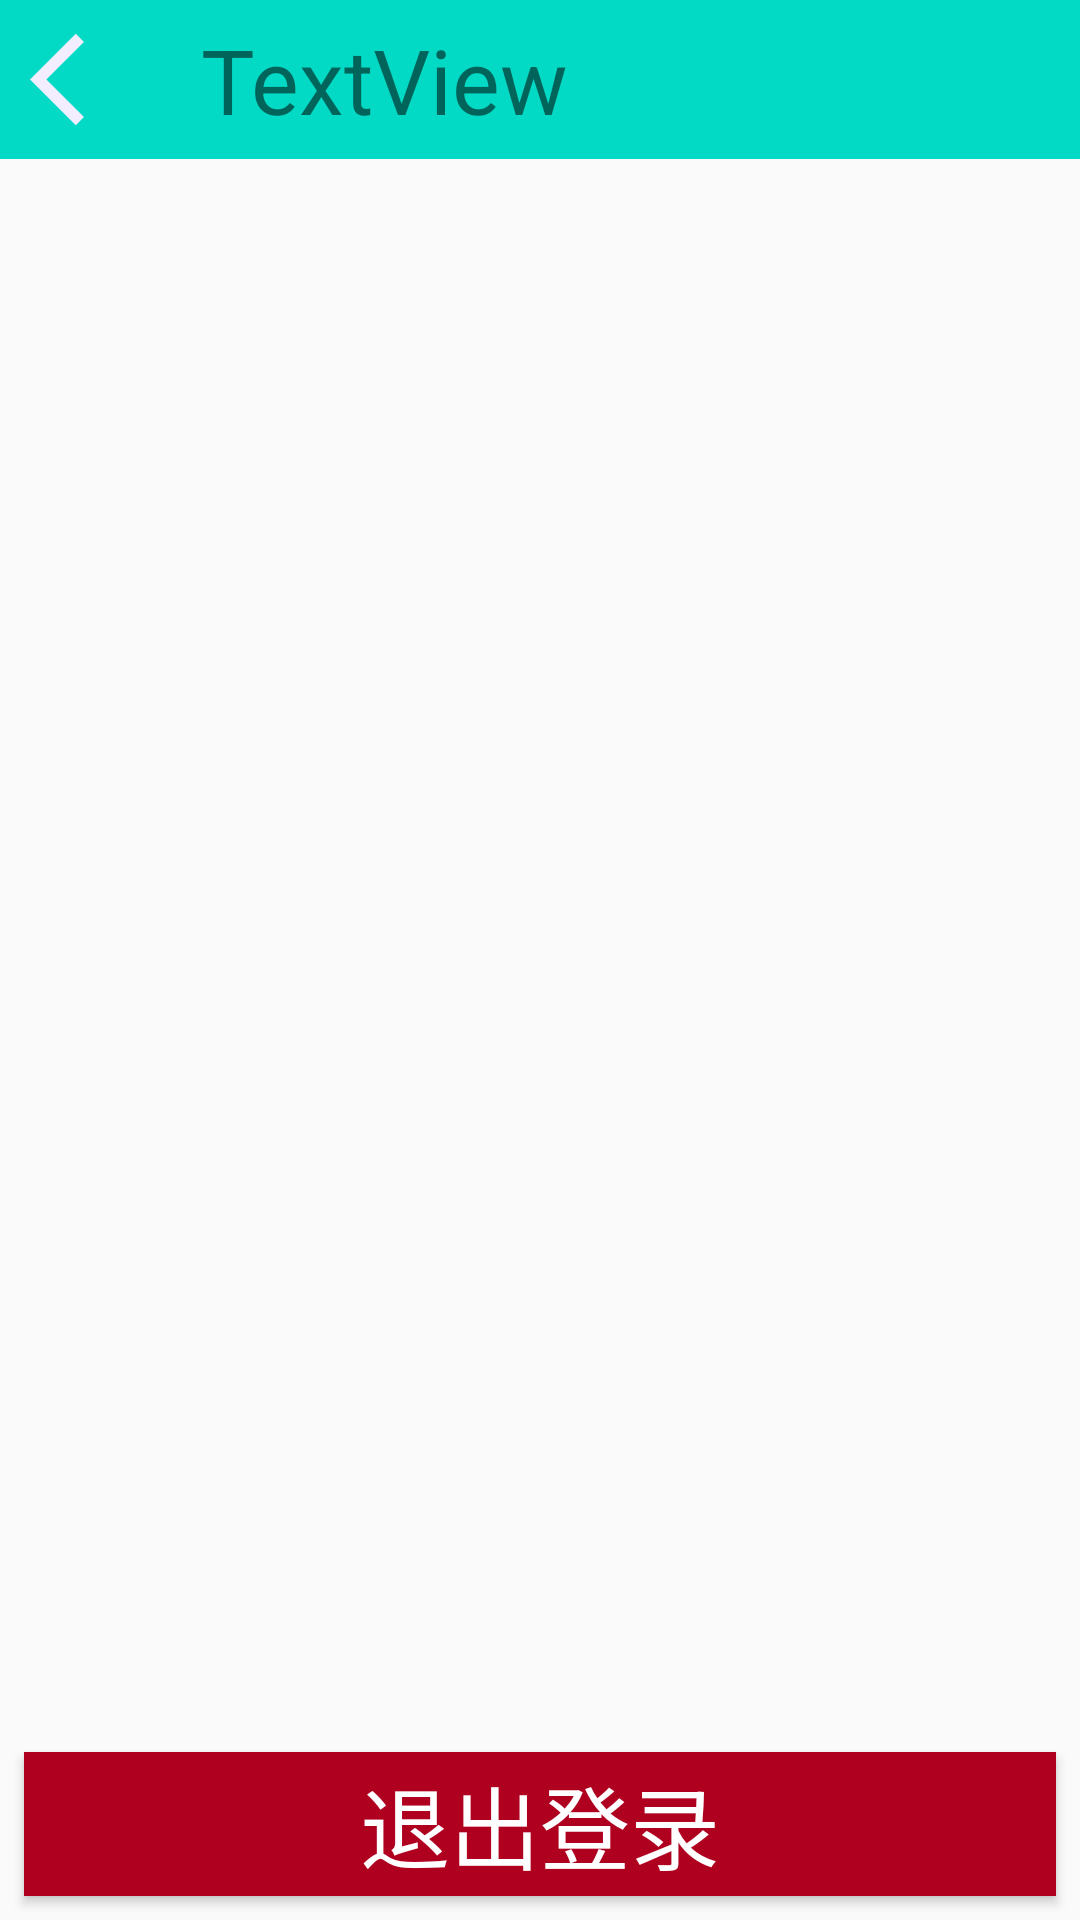

Point at icon controls on the screen. Image size 1080x1920, points as (x,y).
arrow back: (57,79)
